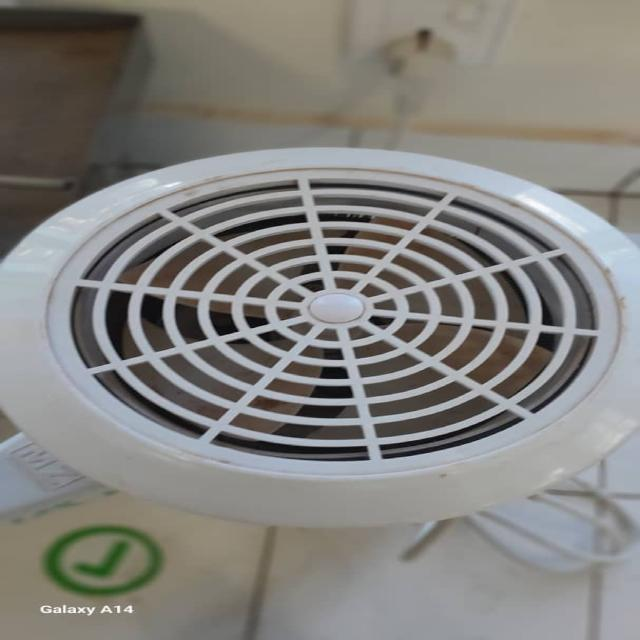Distilled Water Maker: (6, 138, 640, 528)
